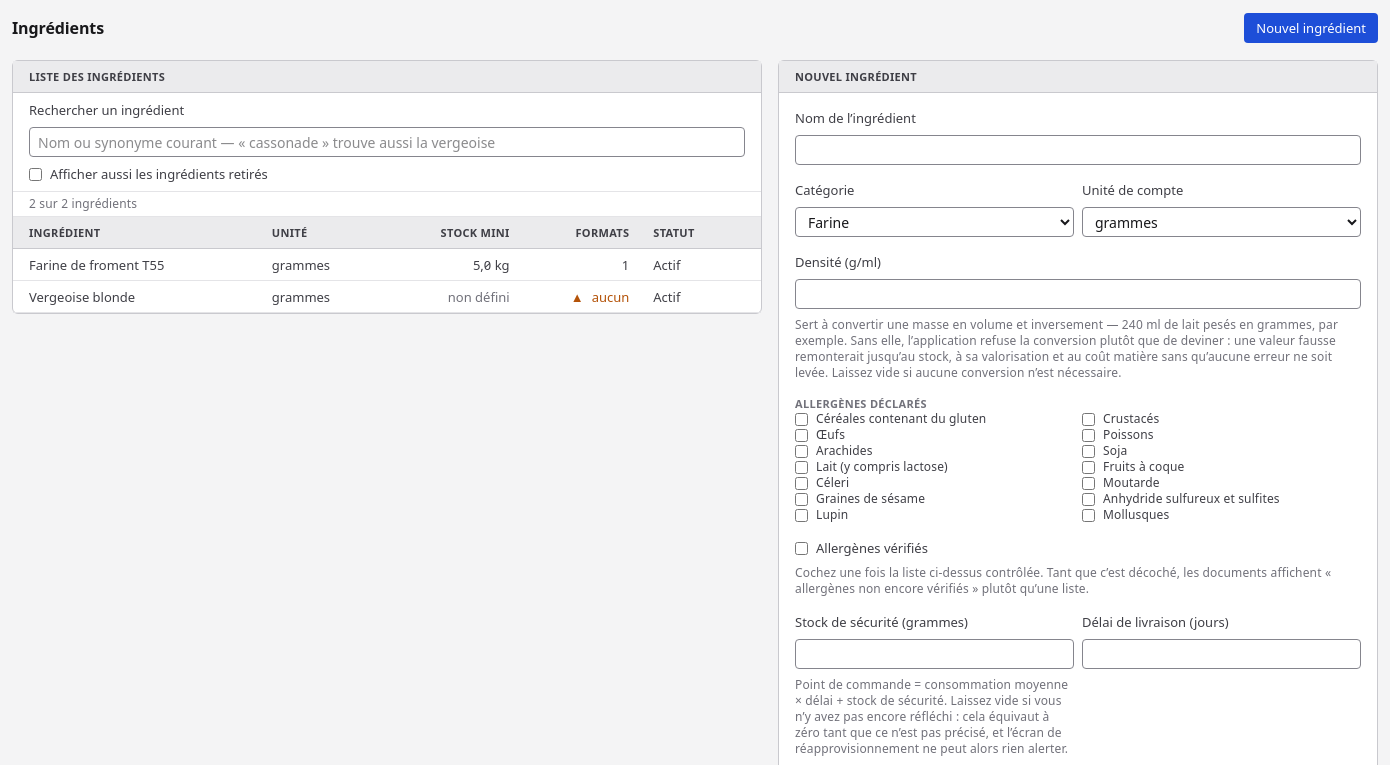
Test case: Ingrédients — choisir une ligne charge SA fiche, jamais celle d’à côté › l’unité de compte est annoncée FIGÉE quand des lots ou des recettes s’y appuient
Expected: the text "Farine de froment T55" is shown, 13,249 -> 260,281
Click the text "Farine de froment T55": (387, 265) 13,249 -> 761,281
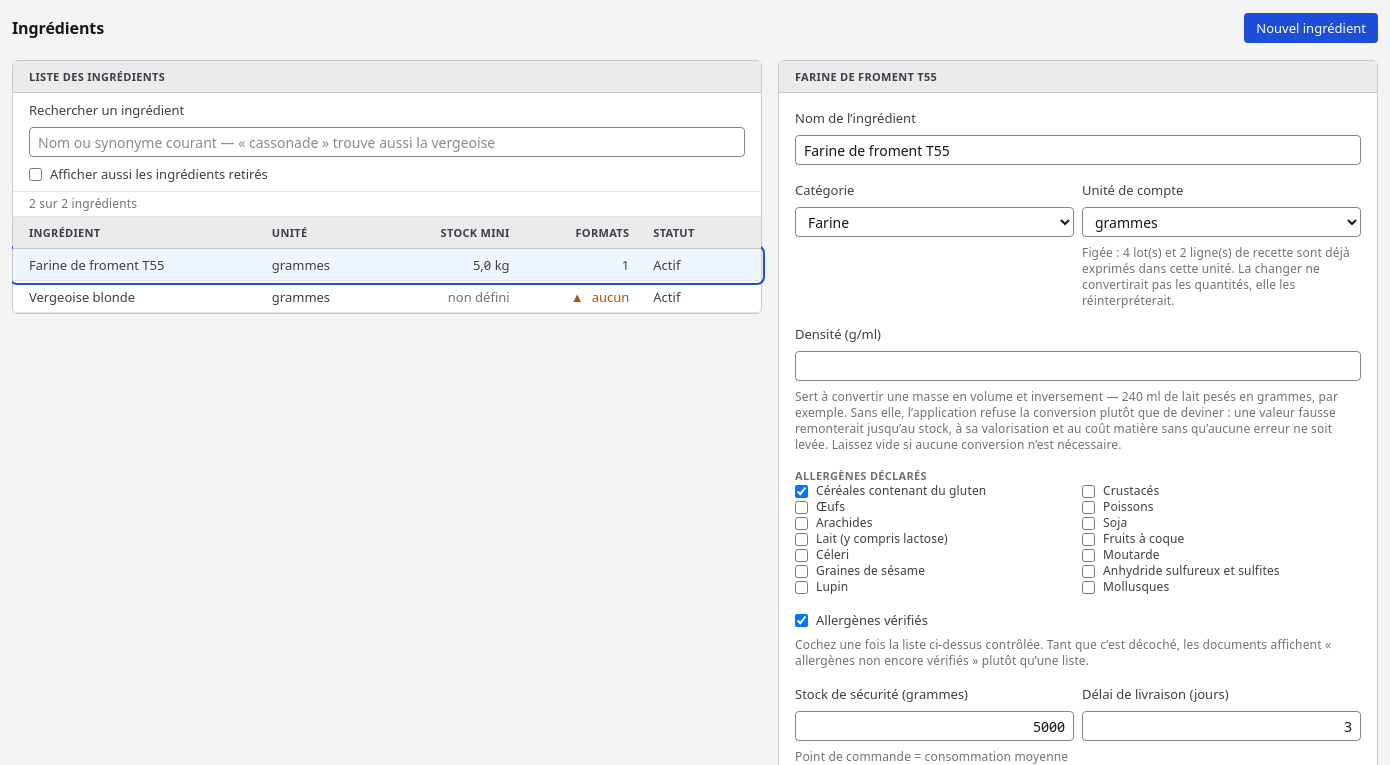
Now the text "Figée : 4 lot(s) et 2 ligne(s) de recette" is shown, box 1082,244 -> 1350,309
